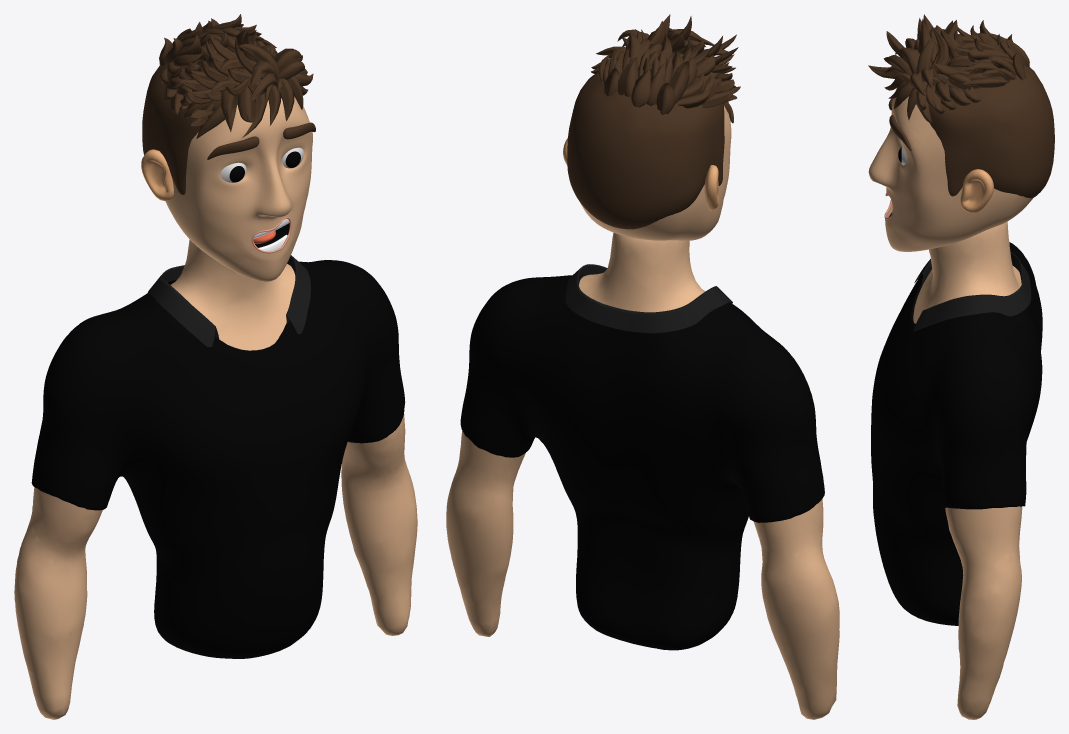
Rendered from myCharacter3.glb.
3 renders of one model, left to right at view 1: azimuth 30°, elevation 25°; view 2: azimuth 150°, elevation 25°; view 3: azimuth 270°, elevation 25°, orthographic. The views are drawn at different scales.
Visible parts, largest first — view 1: Kunas, Galva; view 2: Kunas, Galva; view 3: Kunas, Galva.
Boxes of the visible parts, bbox=[...] form: Kunas: bbox=[14, 239, 417, 719]; Galva: bbox=[141, 14, 315, 281]; Kunas: bbox=[446, 232, 839, 719]; Galva: bbox=[563, 14, 740, 240]; Kunas: bbox=[871, 221, 1042, 719]; Galva: bbox=[868, 14, 1054, 251].
Size of the model in its own units: 0.4827 by 0.7751 by 0.2125.
2 materials, 2 textured.
